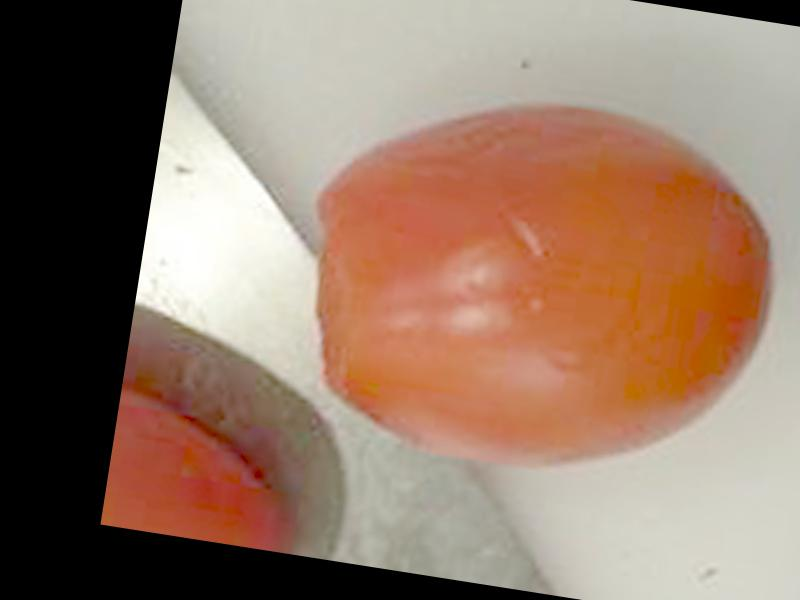Tomato: (283, 69, 796, 504)
